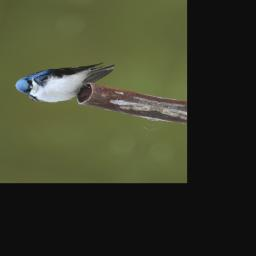Swallow: (10, 48, 117, 112)
